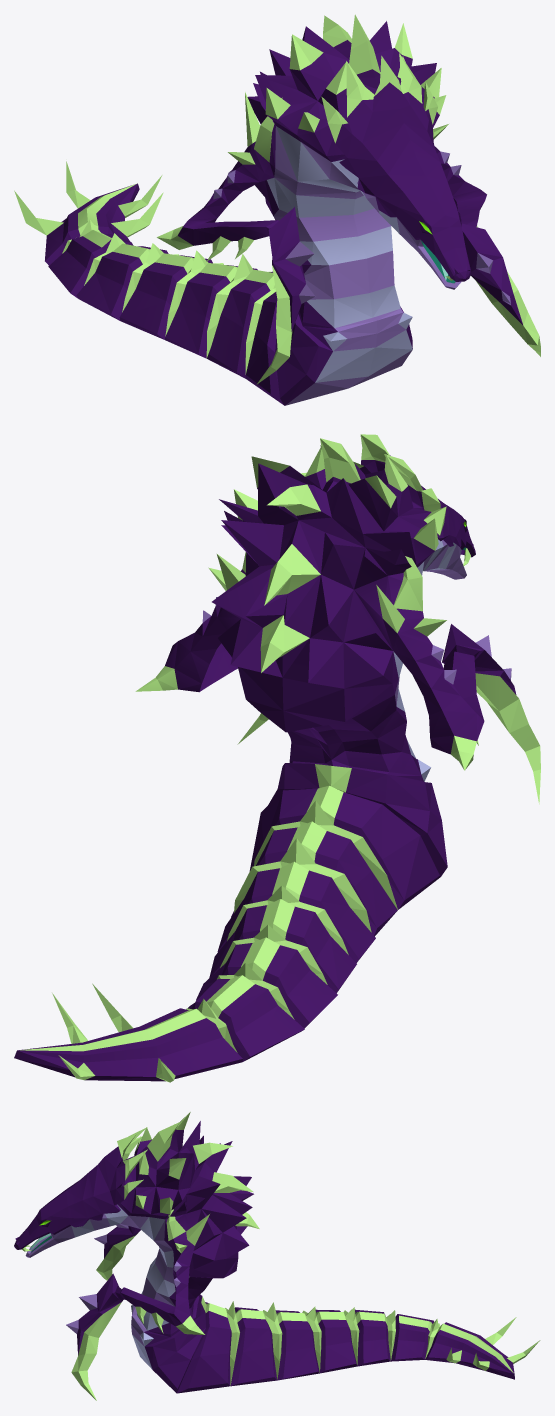
The model's file is Walk (1).obj.
3 views of the same model, one above another, from view 1: azimuth 30°, elevation 25°; view 2: azimuth 150°, elevation 25°; view 3: azimuth 270°, elevation 25° (orthographic). The views are drawn at different scales.
Parts seen in each view (by area): view 1: Alien_Serpent; view 2: Alien_Serpent; view 3: Alien_Serpent.
Part boxes in pixels (bbox=[...]): Alien_Serpent: bbox=[14, 14, 540, 405]; Alien_Serpent: bbox=[14, 434, 540, 1082]; Alien_Serpent: bbox=[14, 1112, 540, 1400].
Bounding box in the file's own units: 186 × 216 × 402.
Materials: 1 (1 with a texture image).
